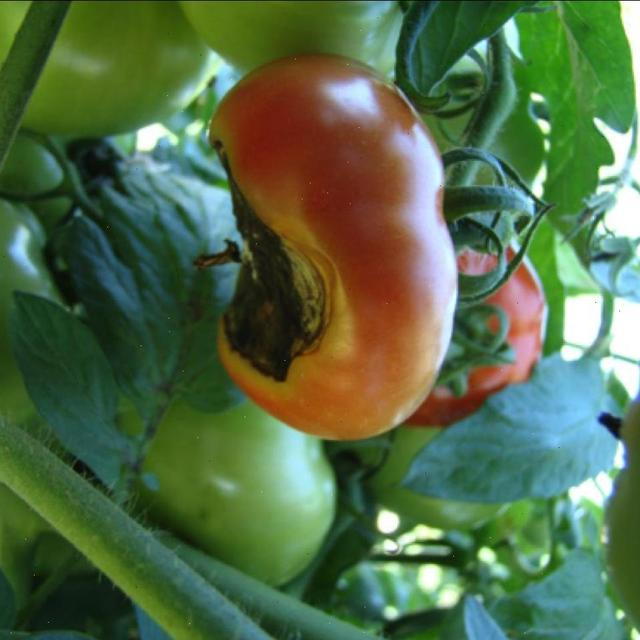Healthy Fruit: (272, 146, 364, 282)
